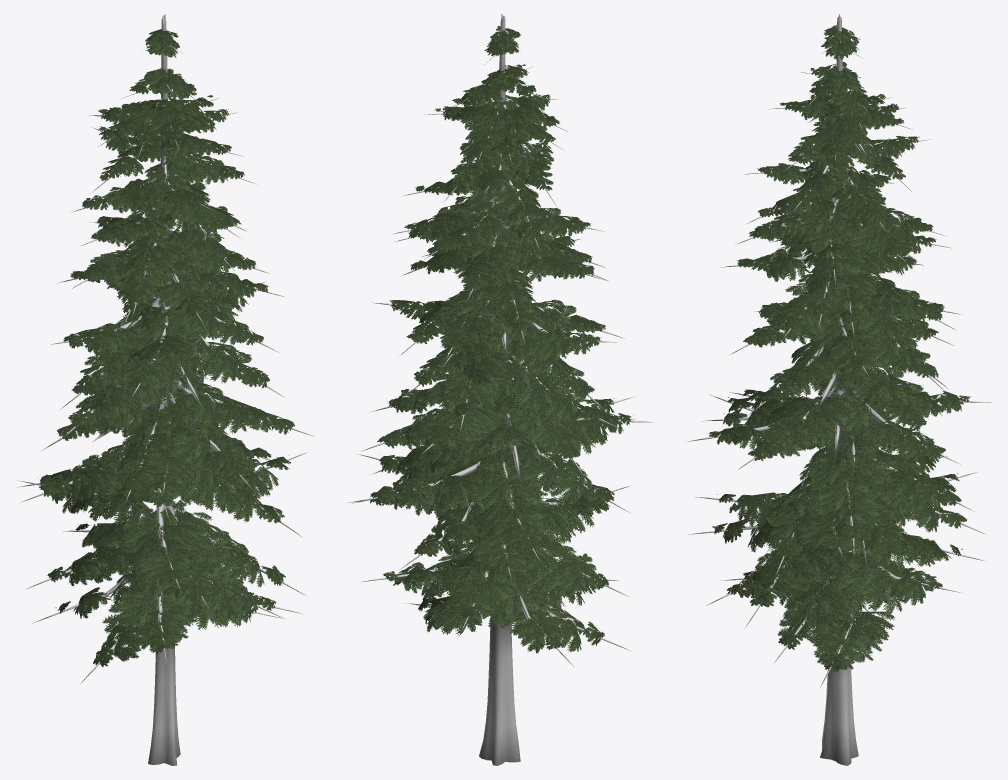
Rendered from Hemlock_Short_mdl.fbx.
The picture shows the model from 3 angles, left to right: view 1: azimuth 30°, elevation 25°; view 2: azimuth 150°, elevation 25°; view 3: azimuth 270°, elevation 25°; orthographic projection.
Parts seen in each view (by area): view 1: Hemlock_Short_LOD0; view 2: Hemlock_Short_LOD0; view 3: Hemlock_Short_LOD0.
Part boxes in pixels (x1,y1,x2,y2): Hemlock_Short_LOD0: [17, 14, 313, 765]; Hemlock_Short_LOD0: [346, 14, 652, 765]; Hemlock_Short_LOD0: [687, 14, 991, 765].
Size of the model in its own units: 509 by 1275 by 481.
